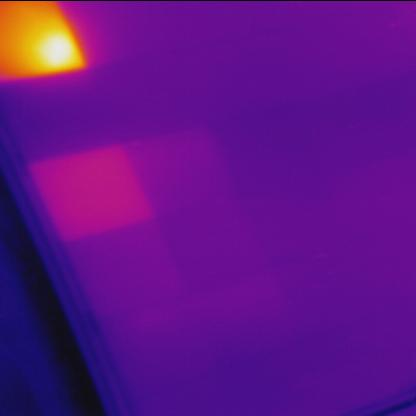hotspot: (0, 1, 84, 83)
